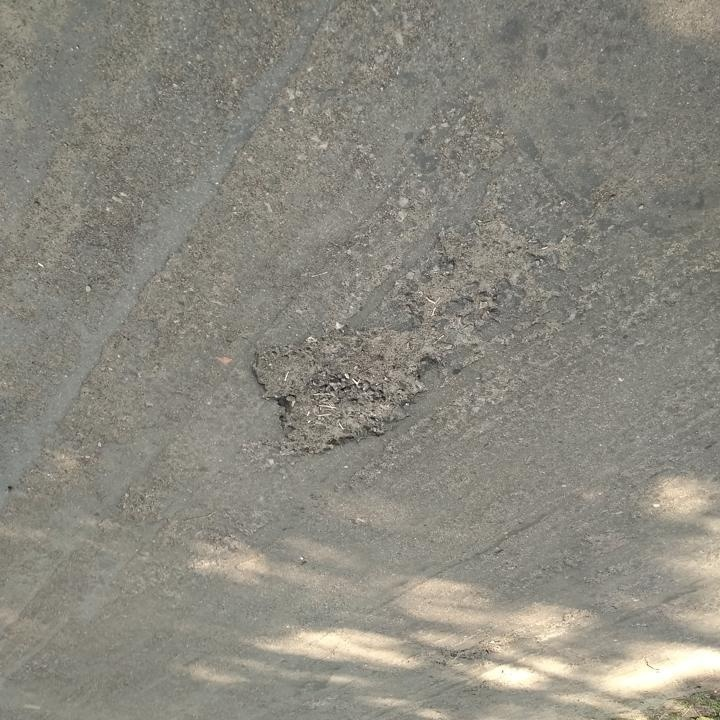pothole: (250, 312, 442, 457), (399, 220, 555, 318), (443, 635, 518, 664)
